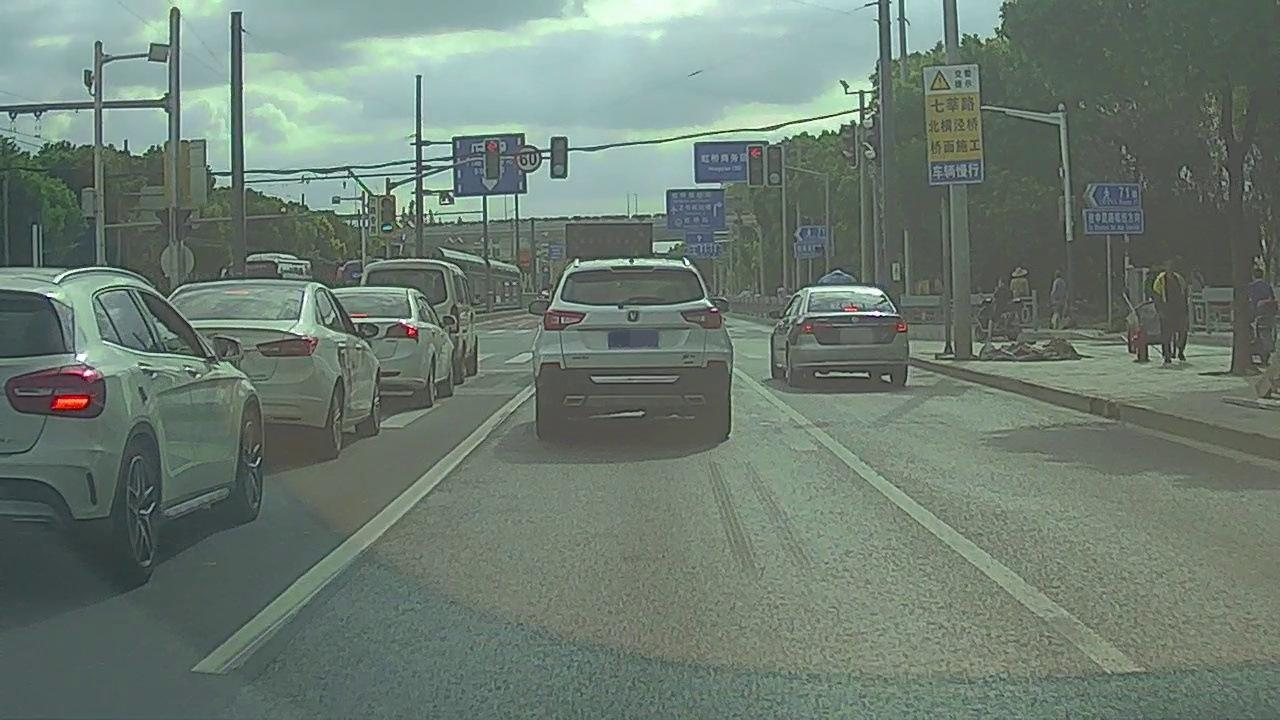traffic_light: (551, 137, 568, 178), (748, 147, 764, 187), (767, 145, 782, 185), (485, 139, 499, 180)
